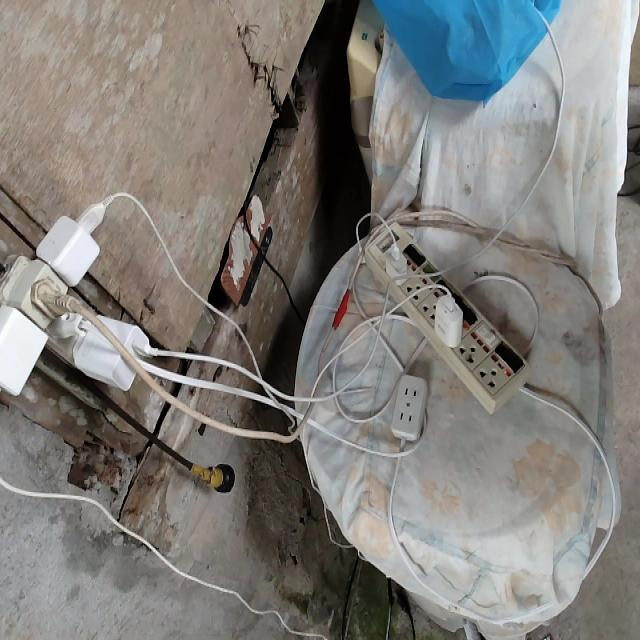-: (1, 189, 162, 399)
